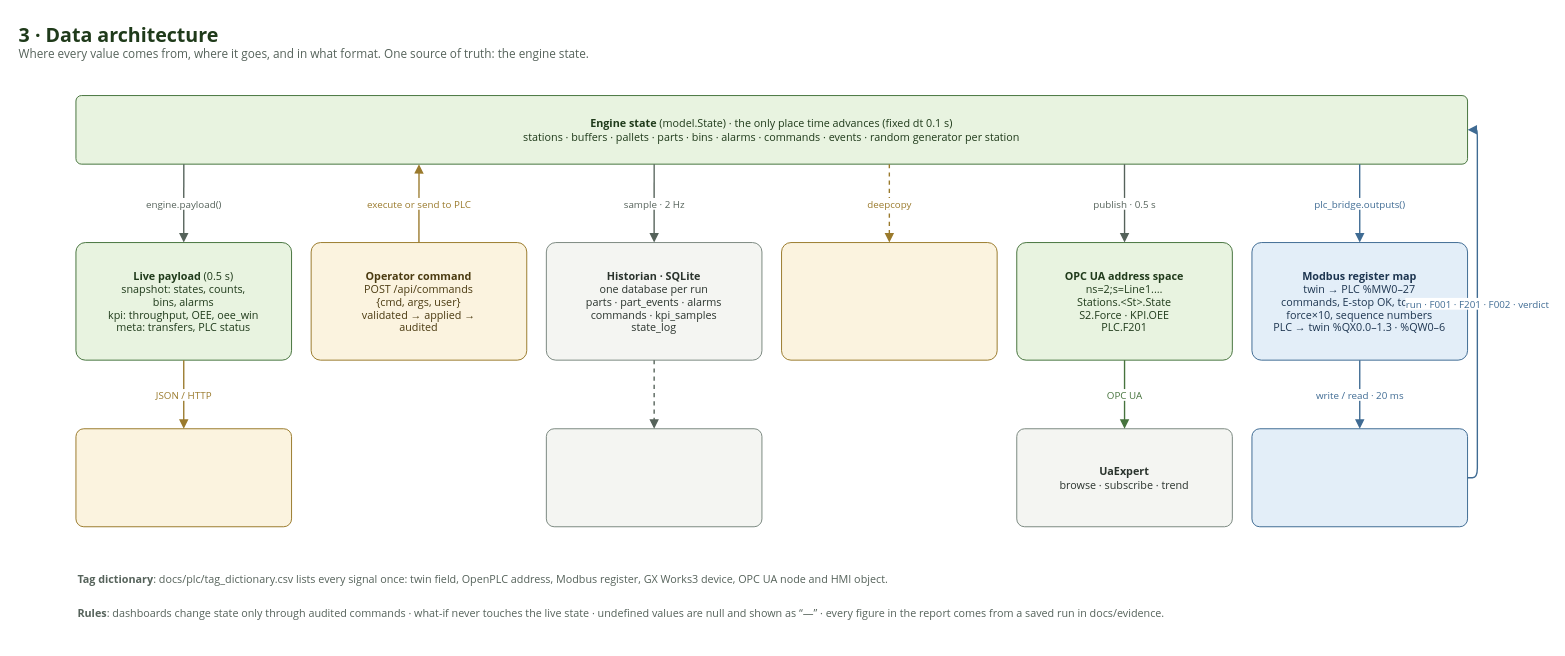
This 1565x656 diagram has some shape labels left out. Here are the shapes that lost their labels. From the top down, the centre of each, then its label:
point (889, 301): What-if POST /api/whatif deep copy under lock → headless options → result JSON
point (183, 477): Dashboards GET /api/live (2 Hz) GET /api/parts/{serial} /alarms · /events
point (653, 477): Exports part trace JSON · audit CSV trends CSV · what-if JSON validation matrix
point (1359, 477): OpenPLC Runtime syringetwin.st · 20 ms scan
